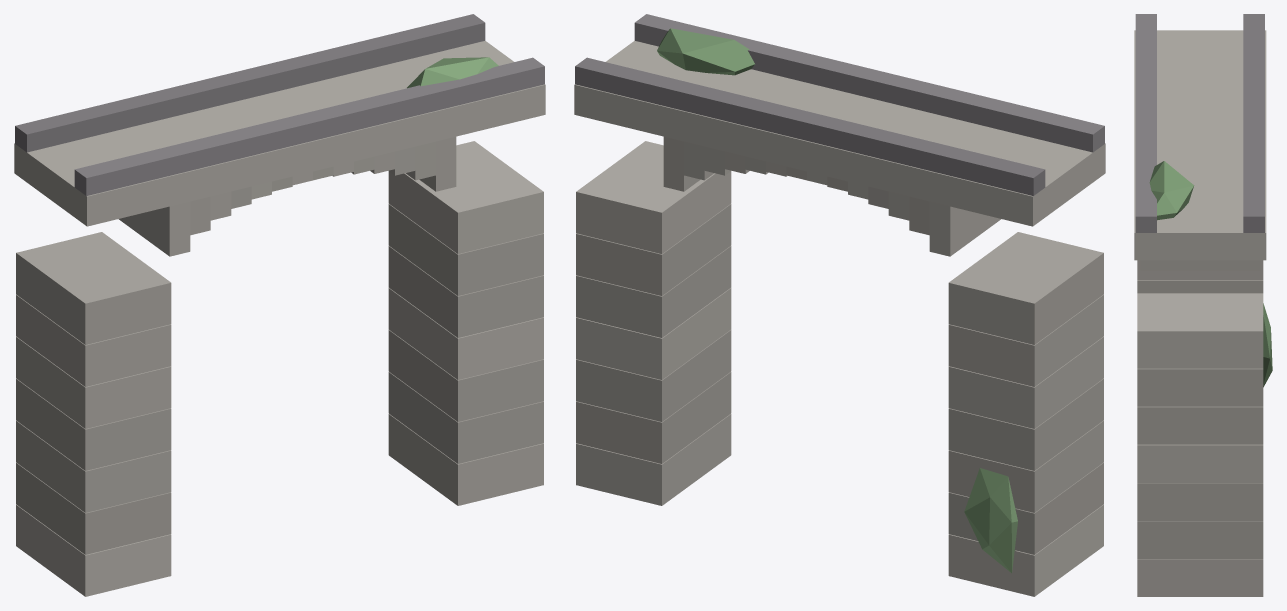
The model's file is aqueduct.glb.
3 renders of one model, left to right at view 1: azimuth 30°, elevation 25°; view 2: azimuth 150°, elevation 25°; view 3: azimuth 270°, elevation 25°, orthographic. The views are drawn at different scales.
Parts seen in each view (by area): view 1: aqueduct; view 2: aqueduct; view 3: aqueduct.
Part boxes in pixels (<box>): aqueduct: <box>14,14,545,596</box>; aqueduct: <box>574,14,1105,596</box>; aqueduct: <box>1134,14,1272,596</box>.
Size of the model in its own units: 8 by 7.18 by 2.31.
